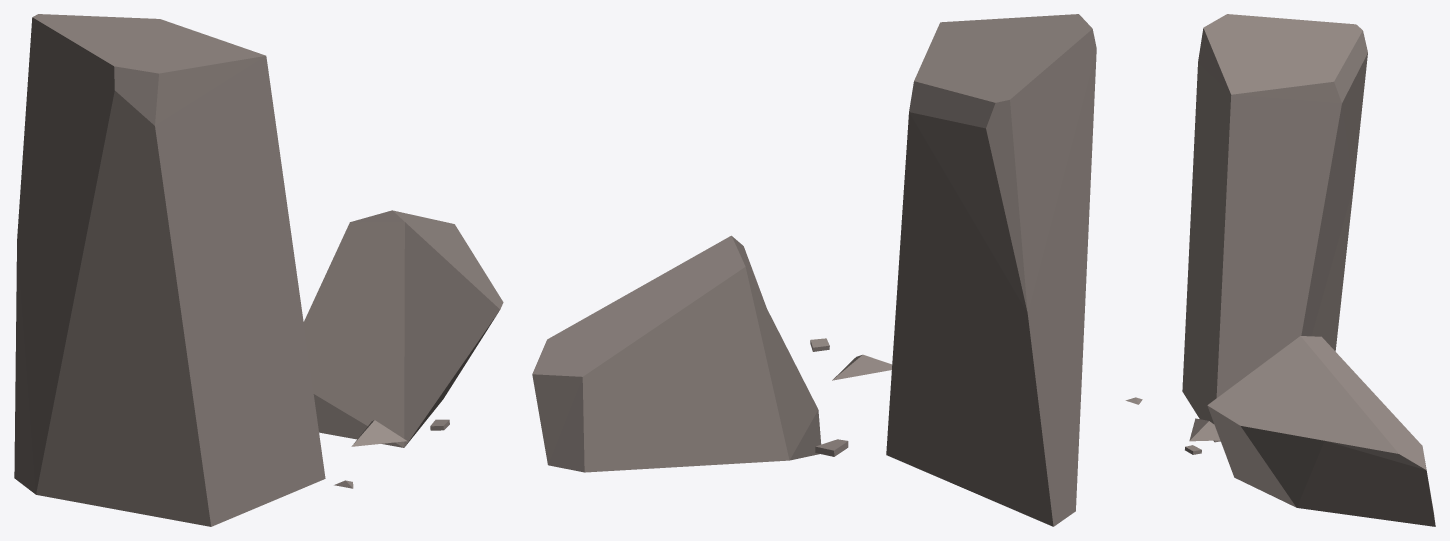
The model's file is Rock_Sharp_crk_m_02 2.fbx.
3 renders of one model, left to right at view 1: azimuth 30°, elevation 25°; view 2: azimuth 150°, elevation 25°; view 3: azimuth 270°, elevation 25°, orthographic. The views are drawn at different scales.
Visible parts, largest first — view 1: Rock_Sharp_crk_m_02; view 2: Rock_Sharp_crk_m_02; view 3: Rock_Sharp_crk_m_02.
Boxes of the visible parts, bbox=[...] form: Rock_Sharp_crk_m_02: bbox=[14, 14, 503, 526]; Rock_Sharp_crk_m_02: bbox=[532, 14, 1096, 526]; Rock_Sharp_crk_m_02: bbox=[1125, 14, 1435, 526].
Size of the model in its own units: 131 by 119 by 94.83.
